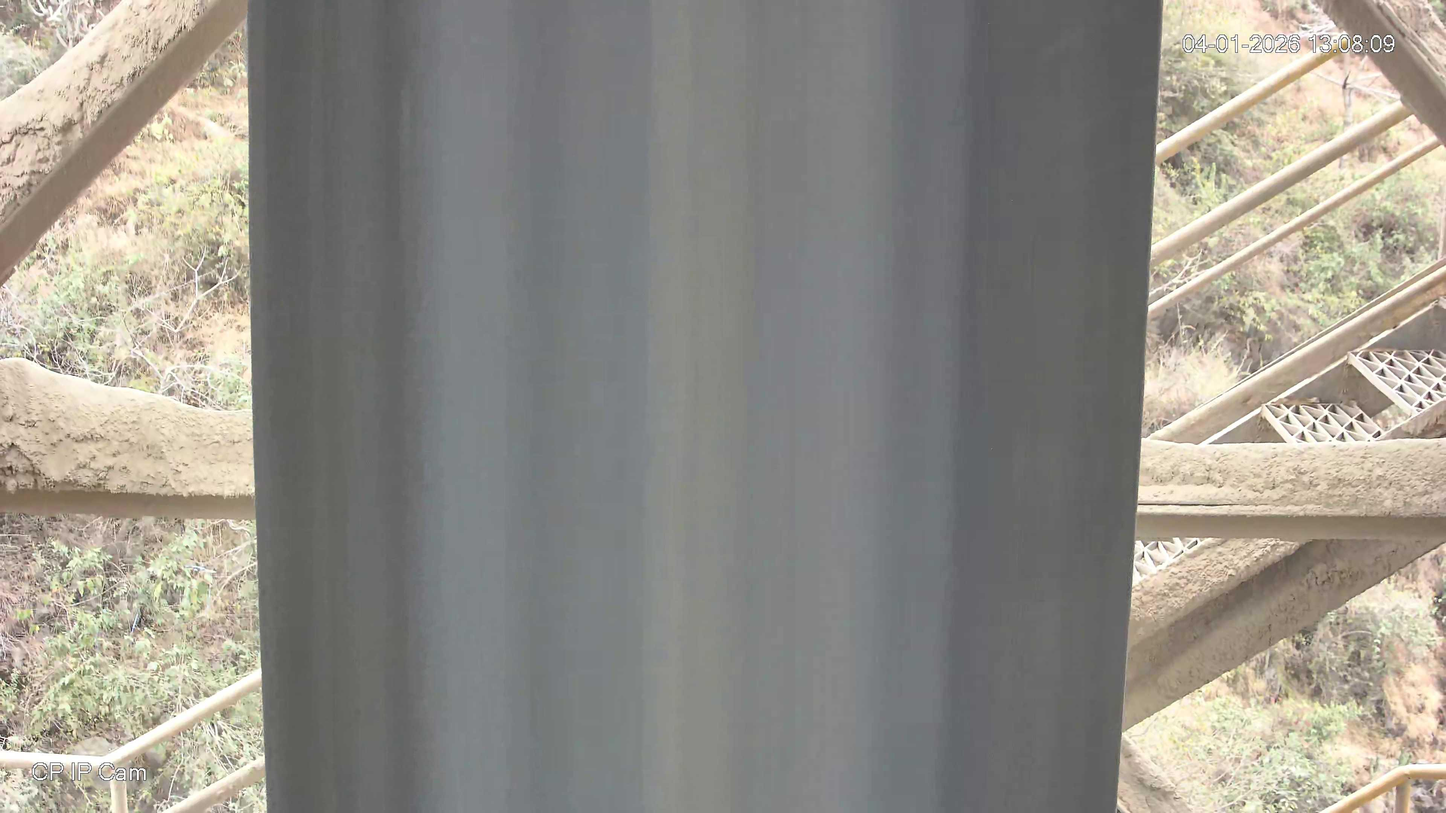belt_roi: (242, 0, 1162, 813)
